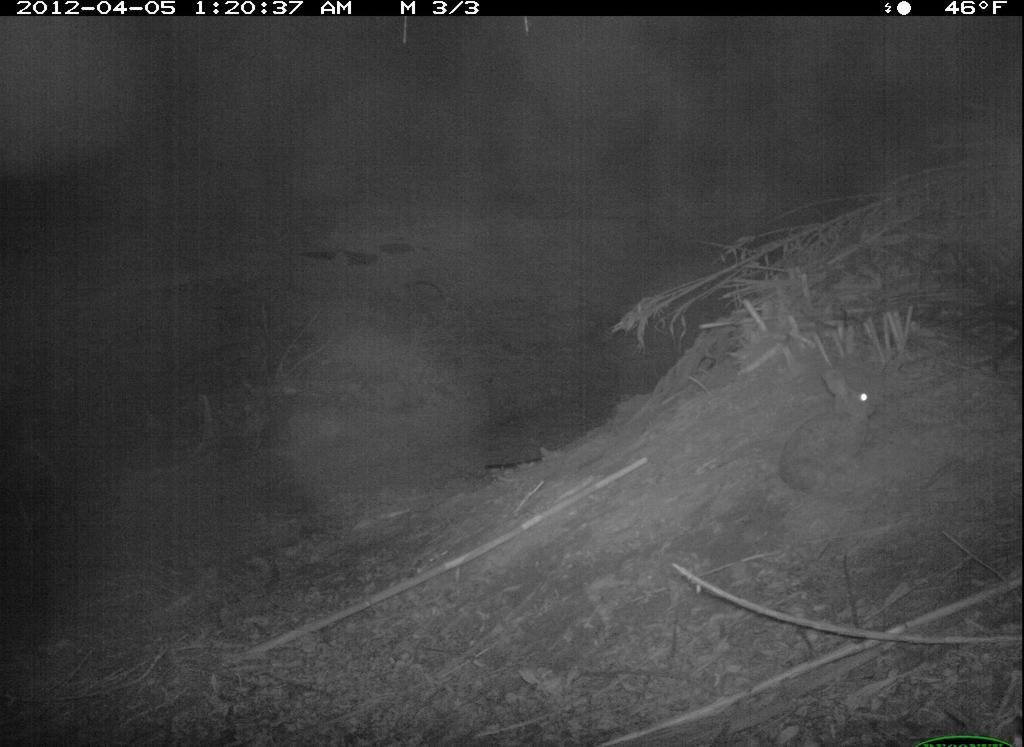rabbit: (774, 363, 891, 509)
